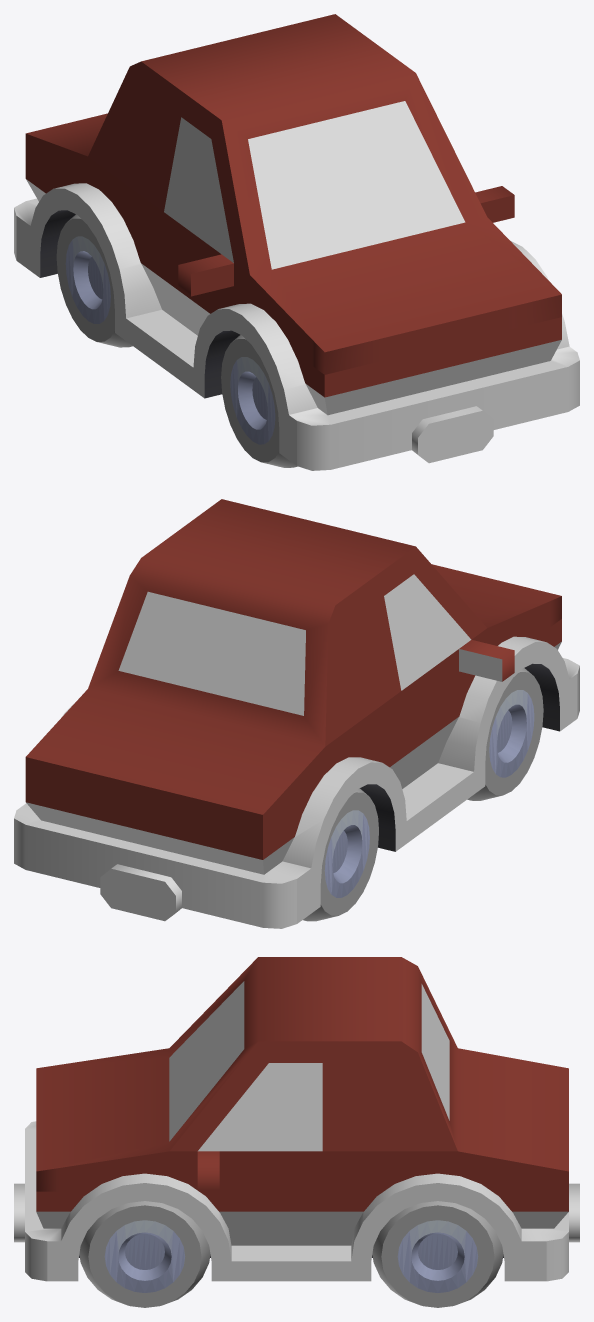
Rendered from sedan.glb.
3 views of the same model, one above another, from view 1: azimuth 30°, elevation 25°; view 2: azimuth 150°, elevation 25°; view 3: azimuth 270°, elevation 25° (orthographic). The views are drawn at different scales.
Parts seen in each view (by area): view 1: sedan; view 2: sedan; view 3: sedan.
Part boxes in pixels (x1=…): sedan: x1=14, y1=14, x2=579, y2=470; sedan: x1=14, y1=499, x2=579, y2=928; sedan: x1=14, y1=957, x2=579, y2=1307.
Bounding box in the file's own units: 1.5 × 1.3 × 2.55.
